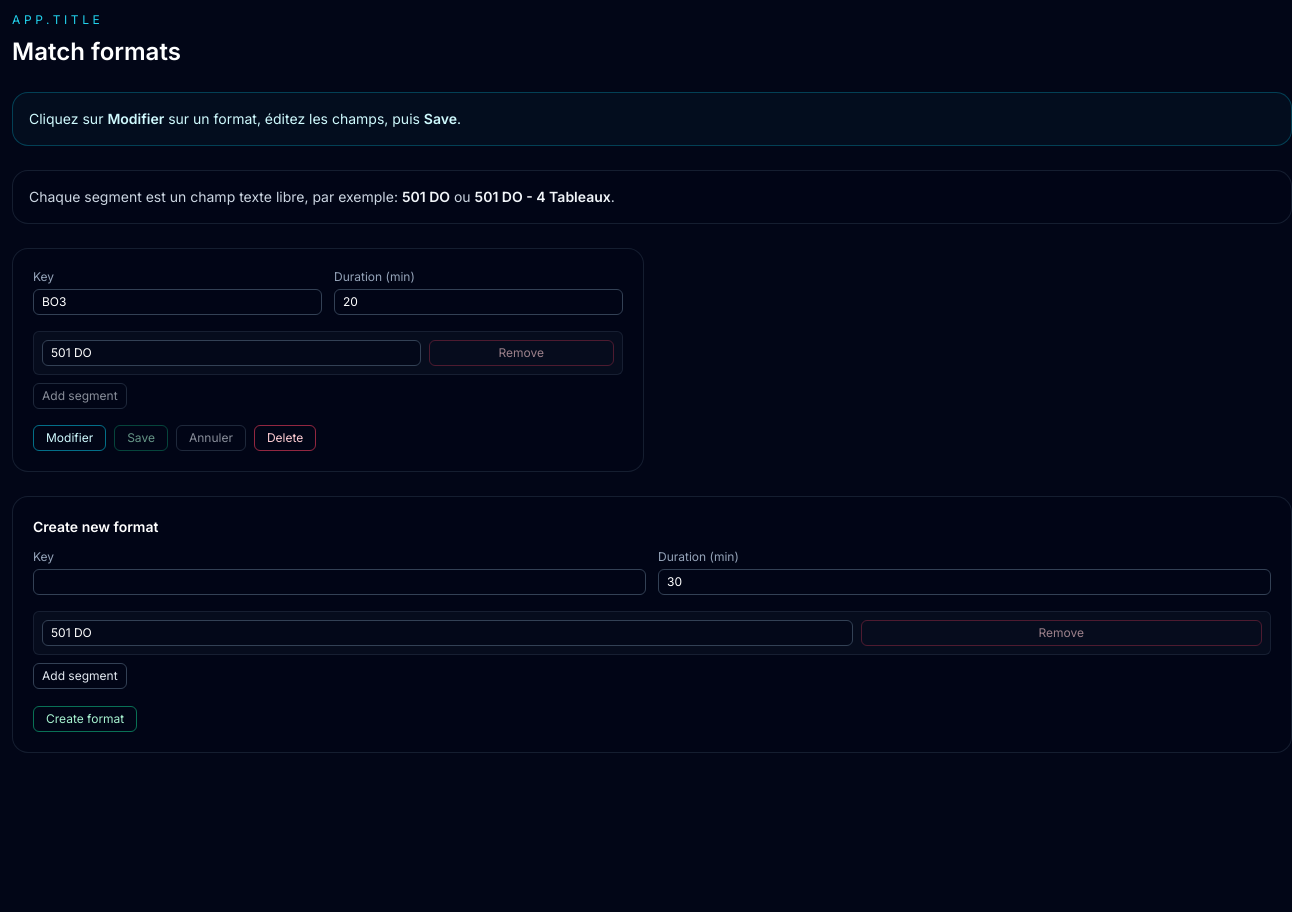
Test: MatchFormatsView › shows save fallback error when update fails with non-Error value
This screenshot has width=1292, height=912.
Expected: the 1st field showing "BO3" is shown, top-left (33, 289), bottom-right (322, 315)
Click the button "Modifier". click: (70, 438)
box: top-left (33, 425), bottom-right (106, 451)
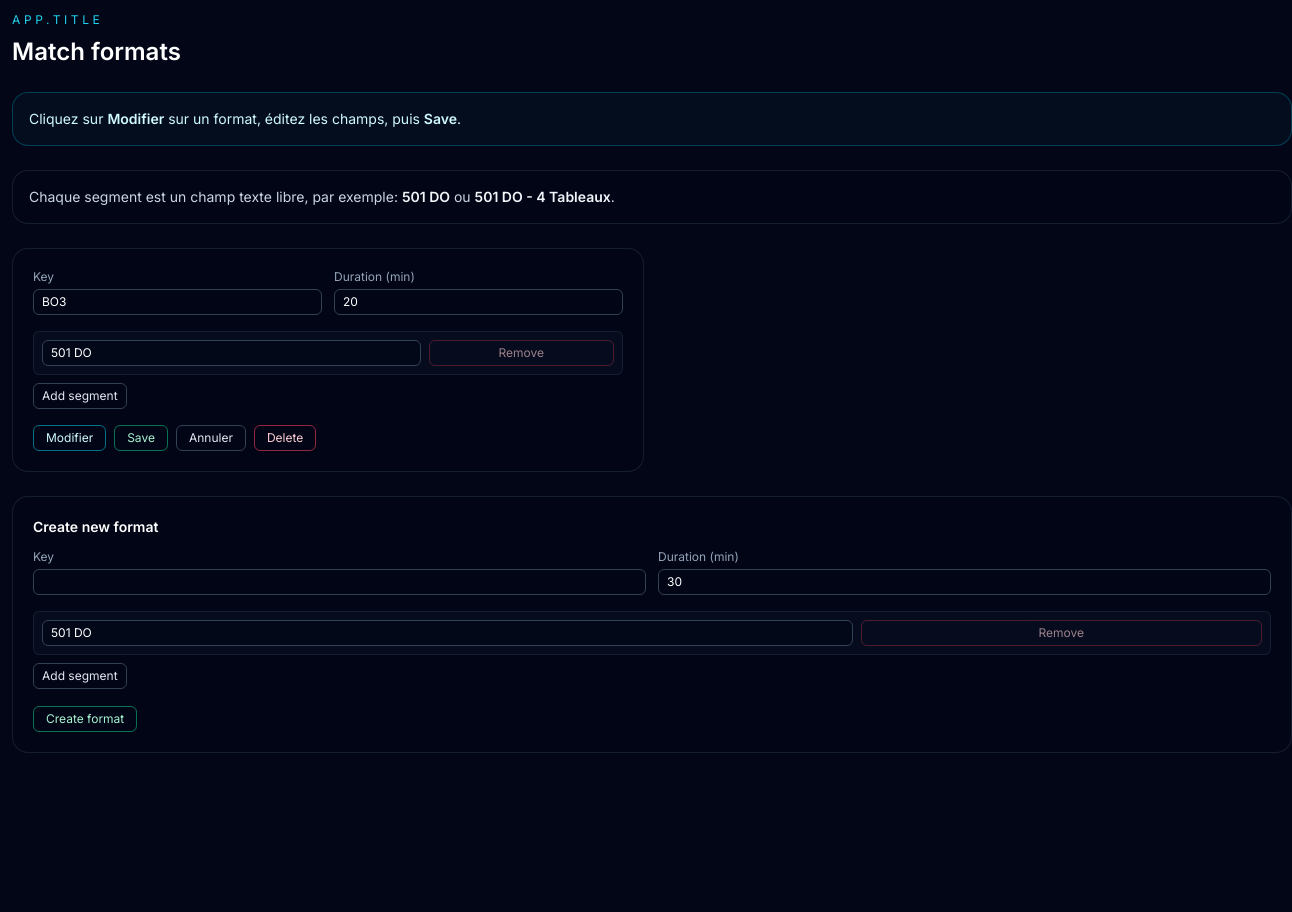
Click the button "Save". click: (141, 438)
box: top-left (114, 425), bottom-right (168, 451)
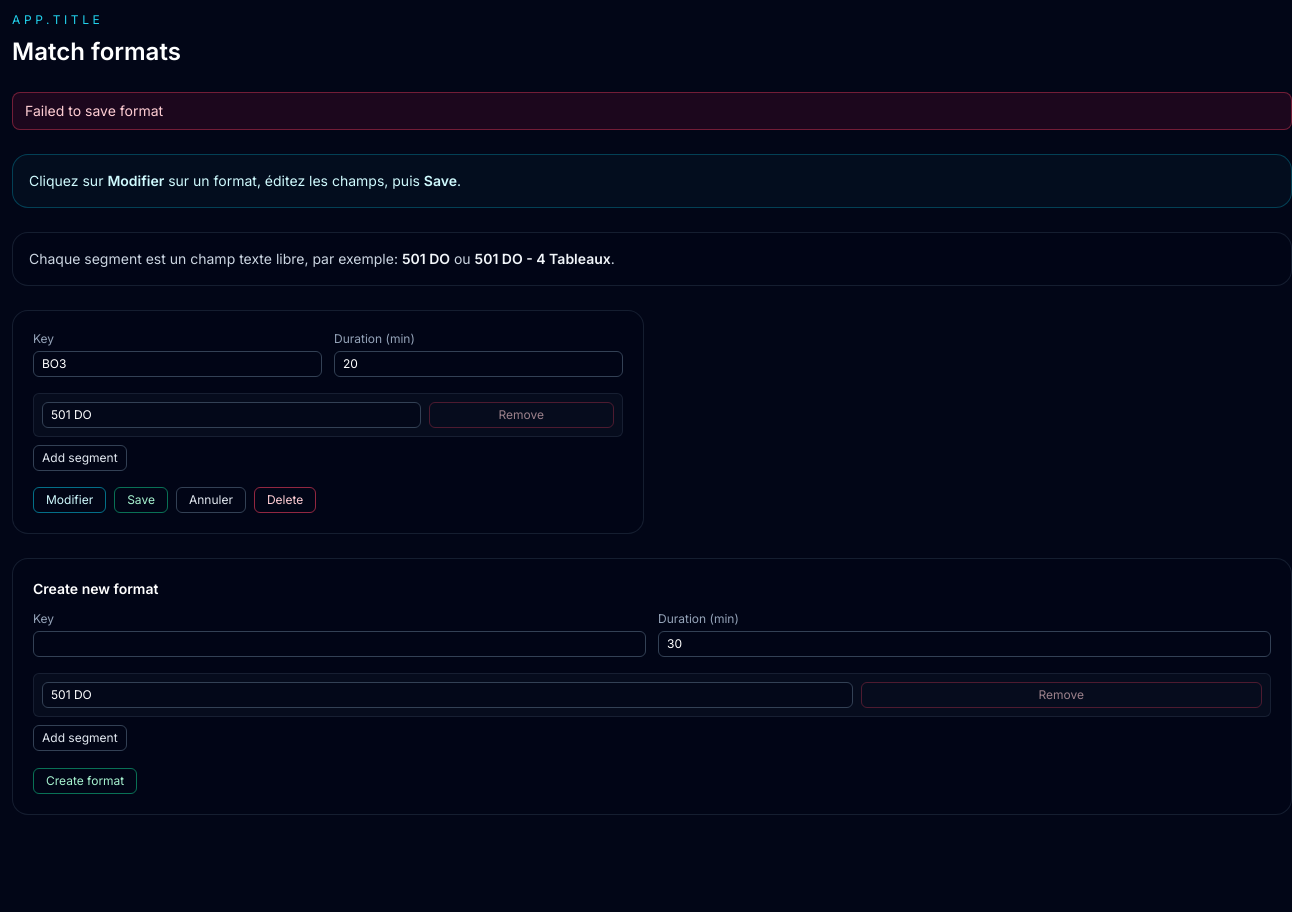
Expected: the text "Failed to save format" is shown, top-left (12, 92), bottom-right (1291, 130)
